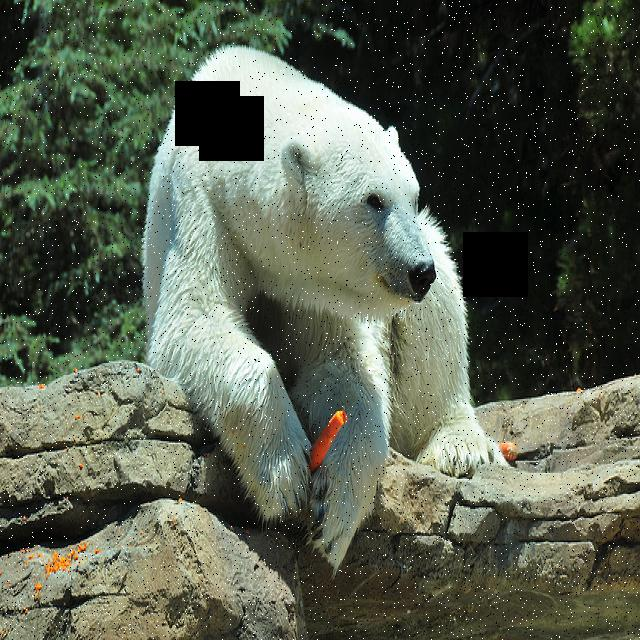Bear: (134, 46, 516, 575)
